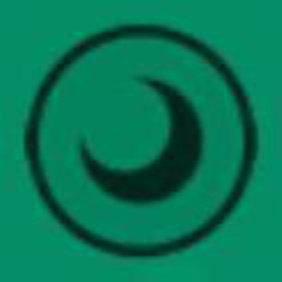ImgButton: (1, 1, 281, 281)
